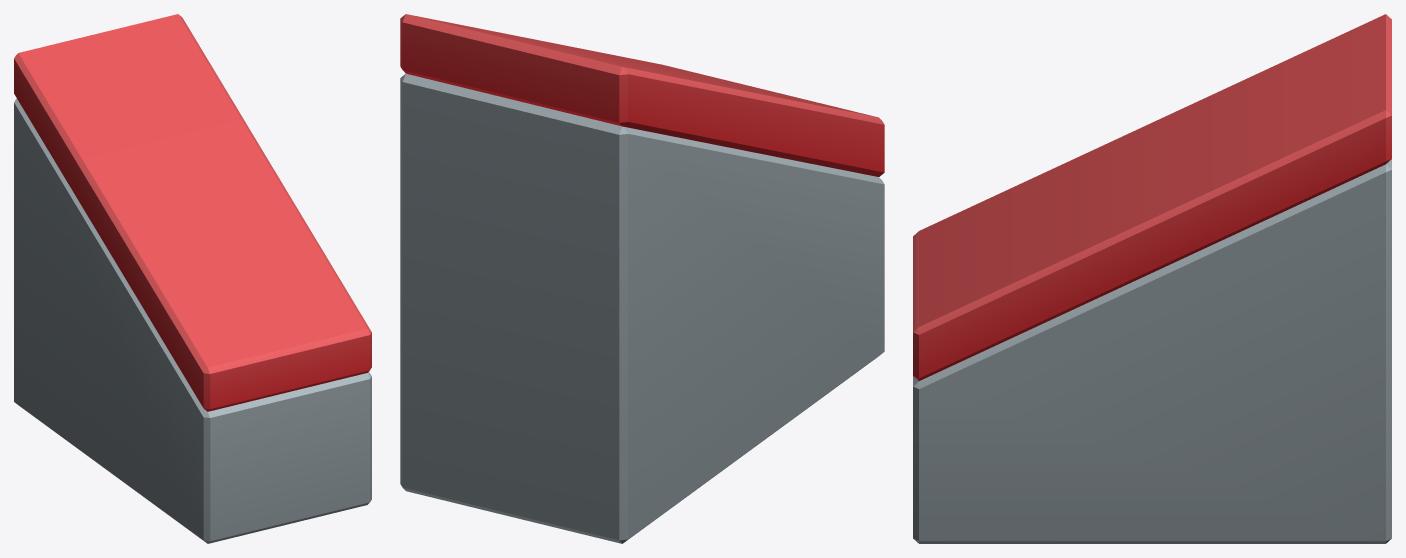
Rendered from kaykit_platform_slope_2x4x4_red.glb.
The picture shows the model from 3 angles, left to right: view 1: azimuth 30°, elevation 25°; view 2: azimuth 150°, elevation 25°; view 3: azimuth 270°, elevation 25°; orthographic projection. The views are drawn at different scales.
Visible parts, largest first — view 1: platform_slope_2x4x4_red_visual; view 2: platform_slope_2x4x4_red_visual; view 3: platform_slope_2x4x4_red_visual.
Boxes of the visible parts, box(x1,y1,x2,y2) form: platform_slope_2x4x4_red_visual: box(14, 14, 371, 543); platform_slope_2x4x4_red_visual: box(400, 14, 884, 543); platform_slope_2x4x4_red_visual: box(913, 14, 1391, 543).
Size of what is drawn, in the model's own units: 2 by 4 by 4.
Materials: 1 (1 with a texture image).
